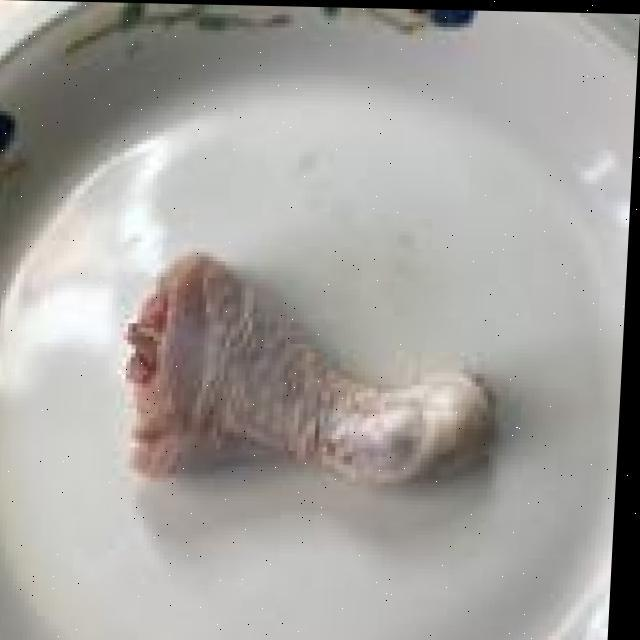leg: (105, 244, 515, 512)
